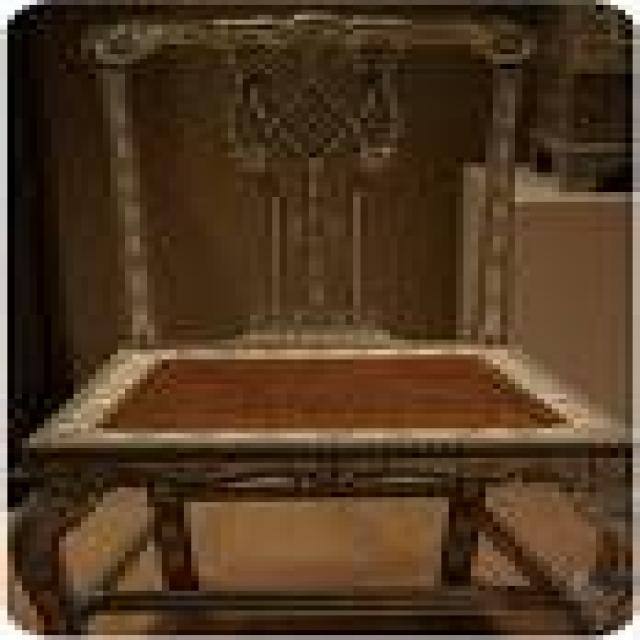chair: (18, 10, 630, 628)
